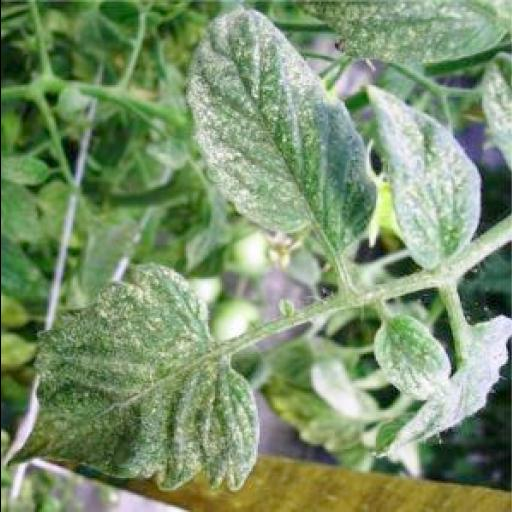disease_tomato: (6, 260, 264, 494), (184, 6, 382, 258), (354, 80, 483, 271), (368, 310, 452, 402)
